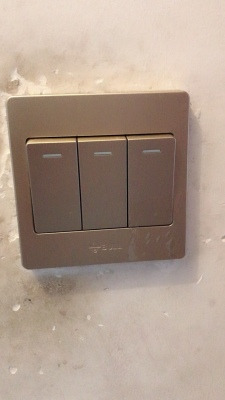switch: (21, 134, 88, 236), (73, 133, 134, 231), (126, 132, 184, 233)
